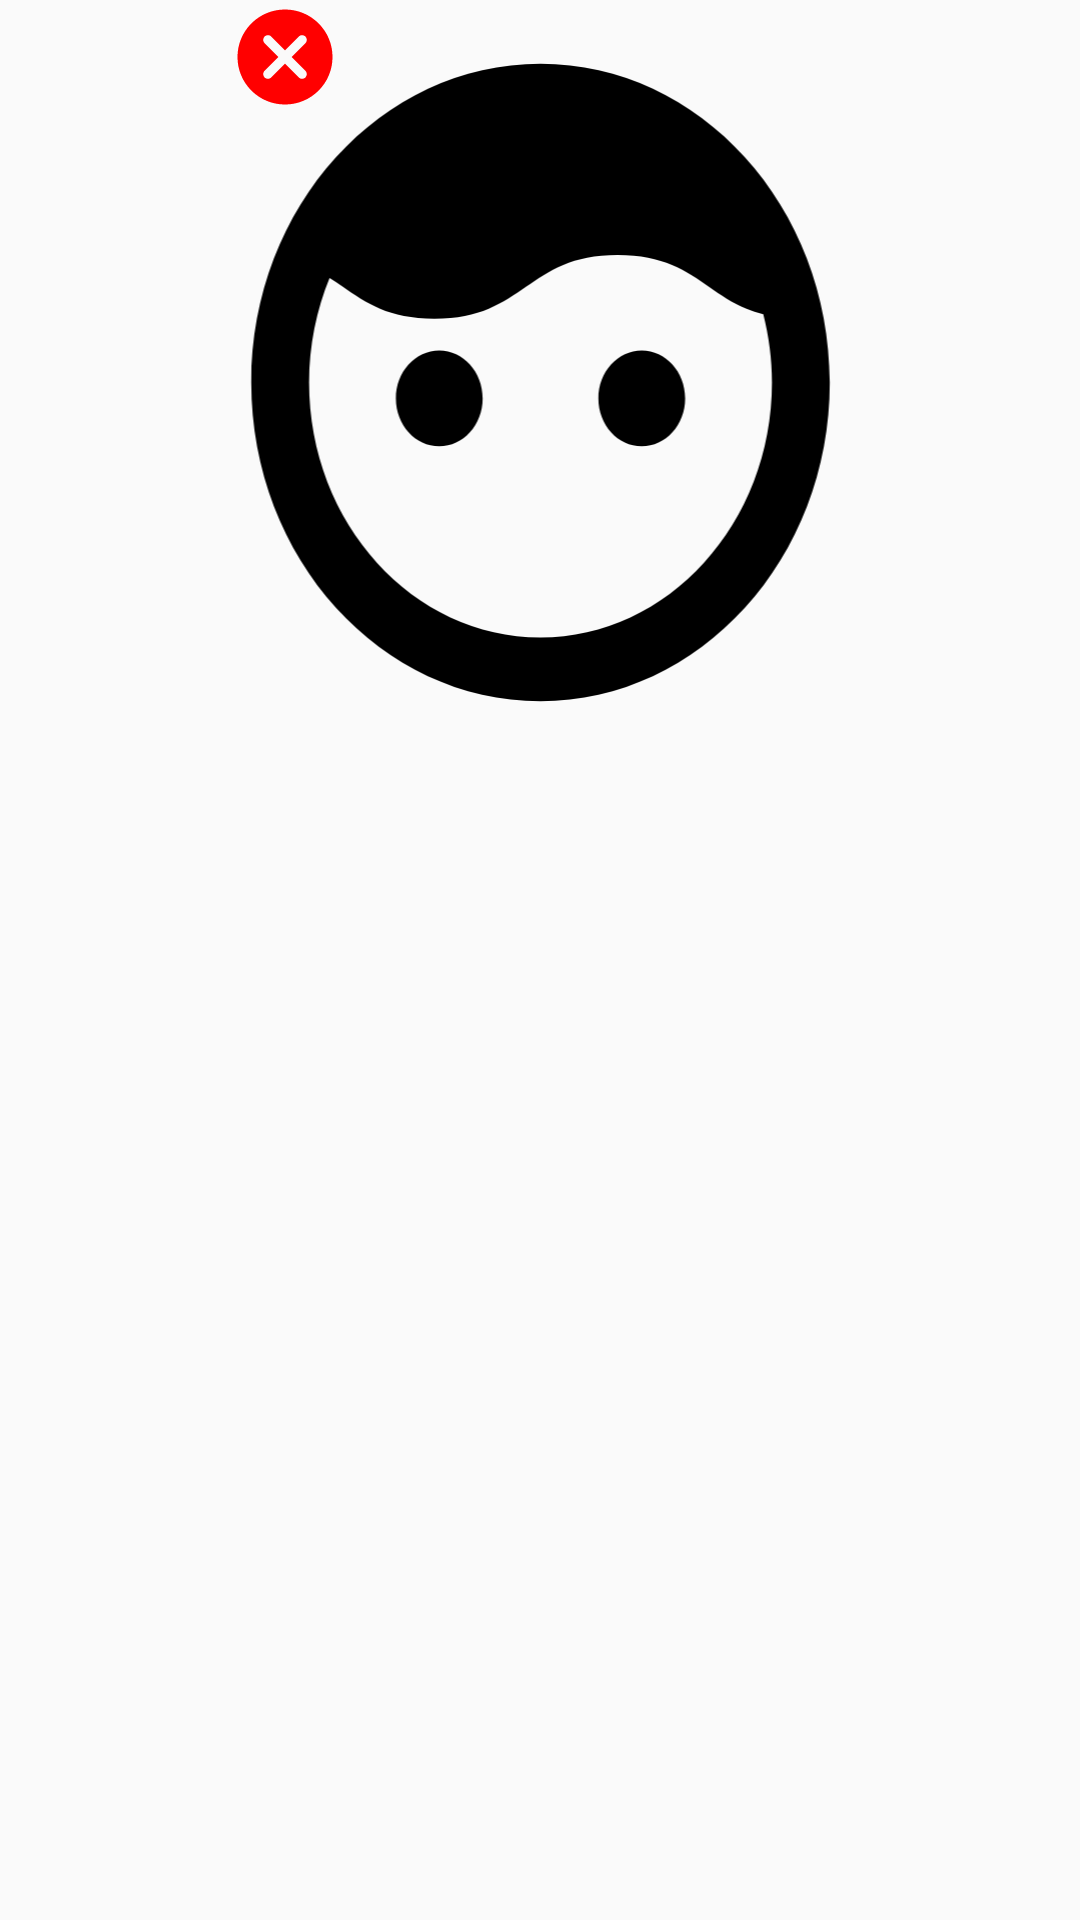

Icon click points for this 1080px x 1920px phone screenshot, format (x,y):
close: (285,57)
